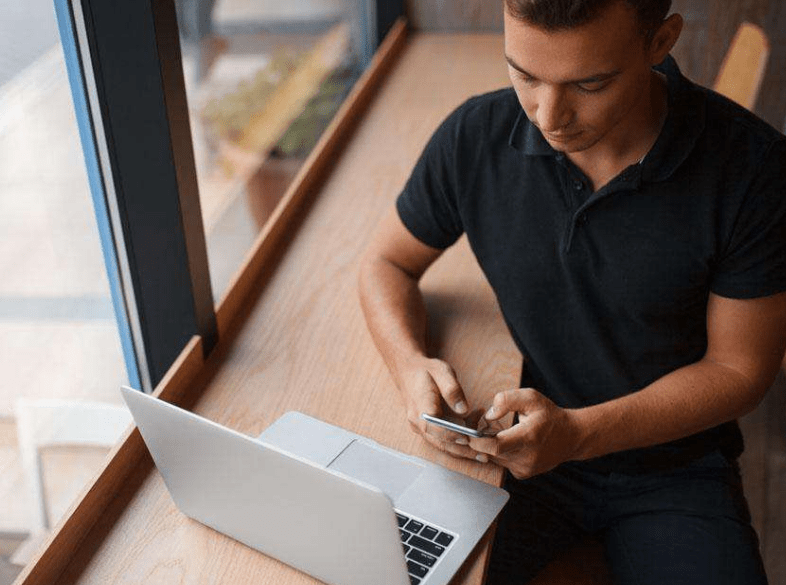reading: (395, 350, 580, 482)
